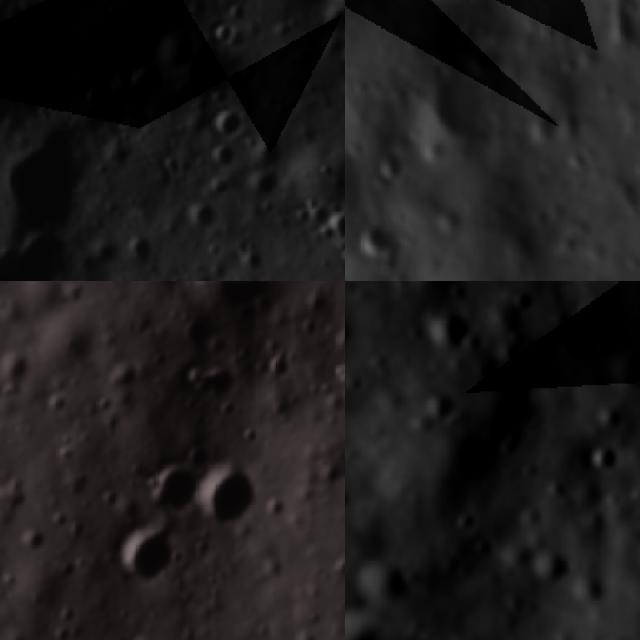crater: (0, 127, 86, 235), (422, 73, 504, 169), (76, 0, 240, 36), (347, 551, 425, 625), (412, 292, 482, 363), (112, 520, 177, 589), (0, 230, 86, 281), (202, 459, 258, 535), (519, 536, 576, 596), (594, 328, 640, 400), (113, 60, 171, 111), (420, 379, 474, 431), (149, 464, 202, 516), (361, 216, 403, 278), (186, 361, 237, 402), (203, 99, 254, 138), (239, 161, 284, 205), (585, 440, 627, 482), (313, 206, 345, 252), (178, 321, 216, 359), (184, 441, 218, 477), (204, 144, 240, 177), (334, 32, 345, 78)
